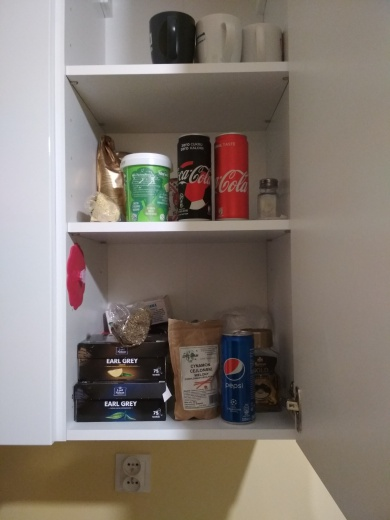cola: (208, 129, 254, 224)
colazero: (169, 129, 214, 224)
pepsi: (211, 324, 264, 430)
